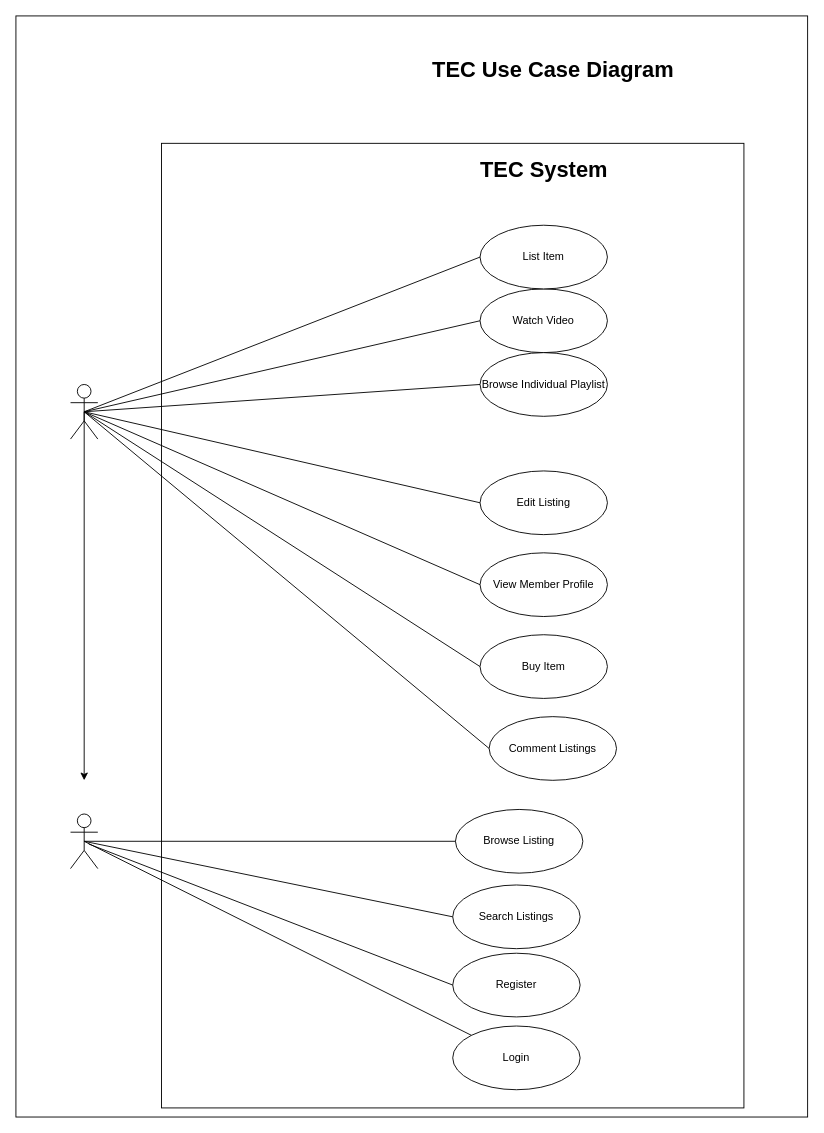
This 824x1133 diagram has some shape labels left out. The centre of each missing label's shape, as x and y in pixels:
"Member" belongs at pixel 84 411.
"Web Browser" belongs at pixel 84 841.
